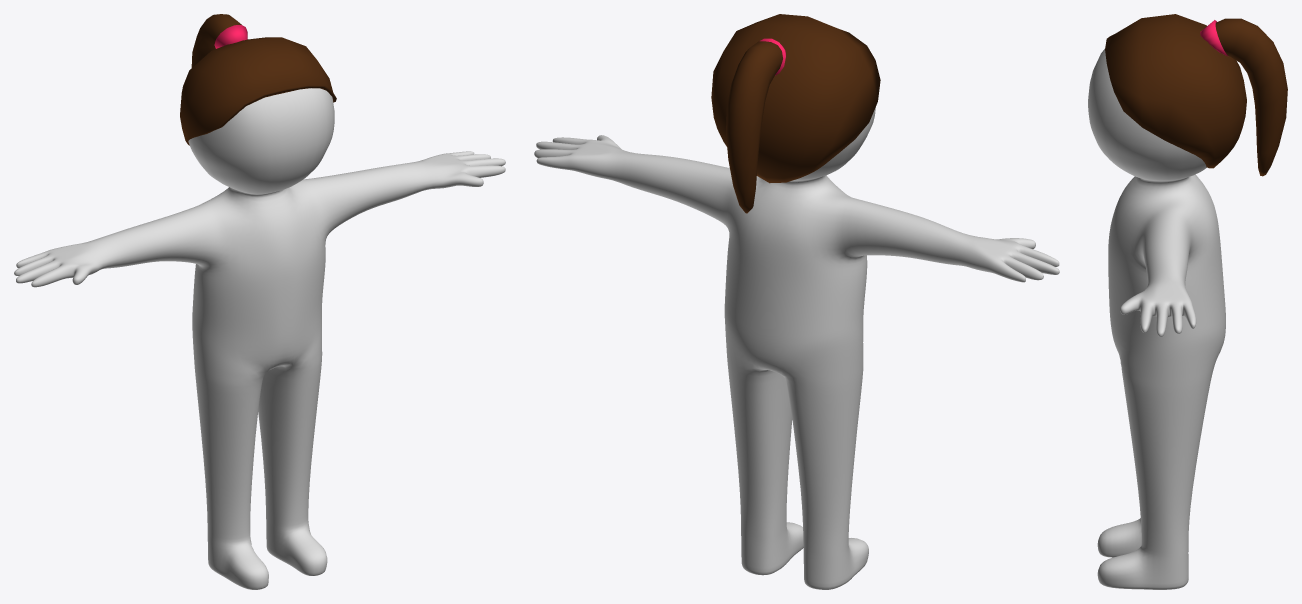
The model's file is StickGirlAtKuuyruklu.fbx.
3 renders of one model, left to right at view 1: azimuth 30°, elevation 25°; view 2: azimuth 150°, elevation 25°; view 3: azimuth 270°, elevation 25°, orthographic. The views are drawn at different scales.
Parts seen in each view (by area): view 1: Body.012, Hair; view 2: Body.012, Hair; view 3: Body.012, Hair.
Boxes of the visible parts, x1,y1,x2,y2 form: Body.012: [14, 88, 505, 589]; Hair: [180, 14, 336, 145]; Body.012: [534, 107, 1059, 589]; Hair: [711, 14, 880, 213]; Body.012: [1088, 49, 1225, 589]; Hair: [1105, 14, 1287, 176].
Size of the model in its own units: 218 by 221 by 73.16.
